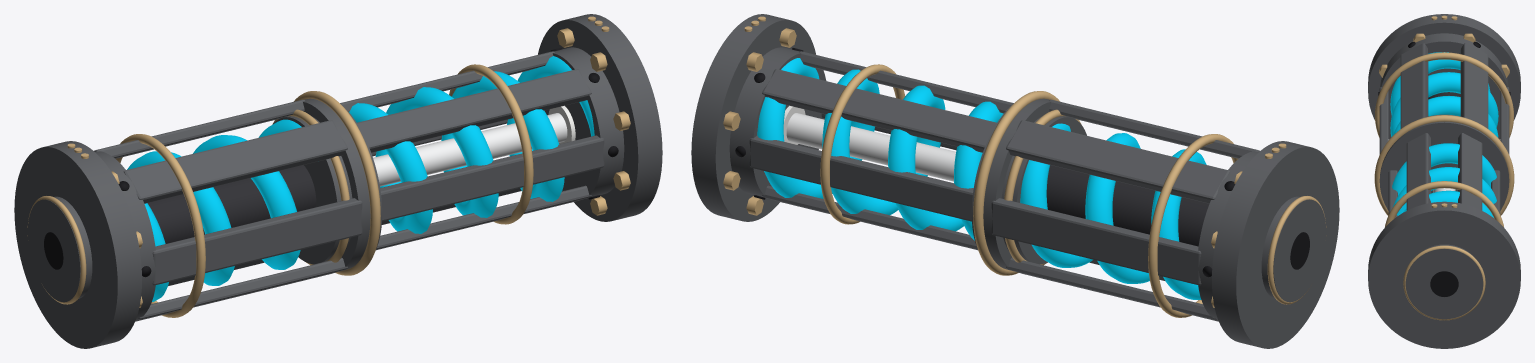
File: offroad_suspension_3.glb
The picture shows the model from 3 angles, left to right: view 1: azimuth 30°, elevation 25°; view 2: azimuth 150°, elevation 25°; view 3: azimuth 270°, elevation 25°; orthographic projection. The views are drawn at different scales.
Parts seen in each view (by area): view 1: mountFlex, Stator, mount; view 2: mountFlex, Stator, mount; view 3: mountFlex, mount, Stator.
Part boxes in pixels (<box>): mountFlex: <box>94,47,624,321</box>; Stator: <box>14,141,142,348</box>; mount: <box>538,14,662,221</box>; mountFlex: <box>729,47,1259,321</box>; Stator: <box>1211,141,1339,348</box>; mount: <box>691,14,815,221</box>; mountFlex: <box>1374,33,1514,226</box>; mount: <box>1368,201,1520,348</box>; Stator: <box>1368,14,1520,139</box>.
Size of the model in its own units: 0.751 by 0.2385 by 0.236.
